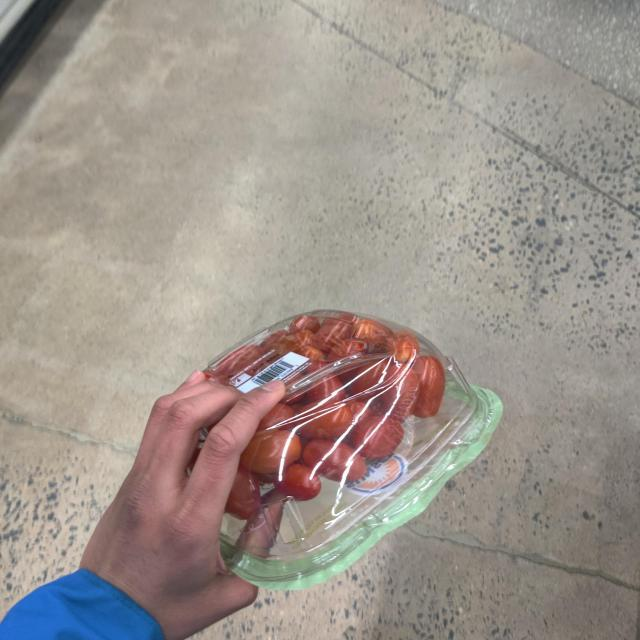Tomatoes: (161, 305, 499, 579)
